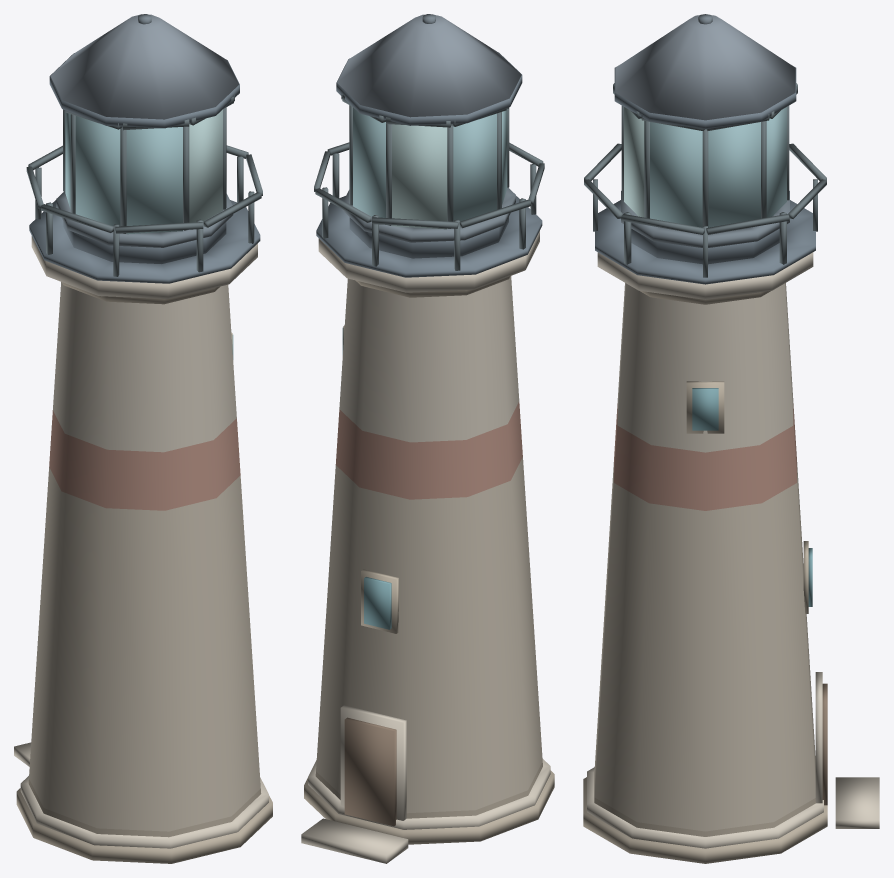
The picture shows the model from 3 angles, left to right: view 1: azimuth 30°, elevation 25°; view 2: azimuth 150°, elevation 25°; view 3: azimuth 270°, elevation 25°; orthographic projection. The views are drawn at different scales.
Visible parts, largest first — view 1: lighthouse_static; view 2: lighthouse_static; view 3: lighthouse_static.
Boxes of the visible parts, x1,y1,x2,y2 form: lighthouse_static: [14, 14, 272, 863]; lighthouse_static: [301, 14, 554, 863]; lighthouse_static: [583, 14, 879, 863].
Size of the model in its own units: 5.12 by 17.41 by 5.9.
